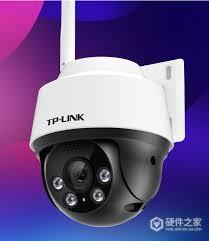maru: (19, 48, 192, 233)
